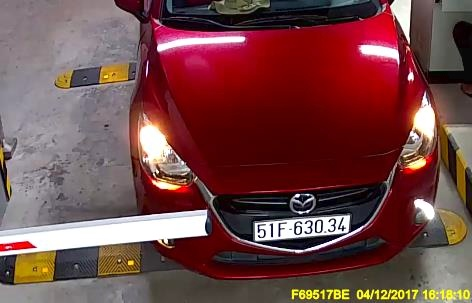plate: (251, 213, 350, 242)
